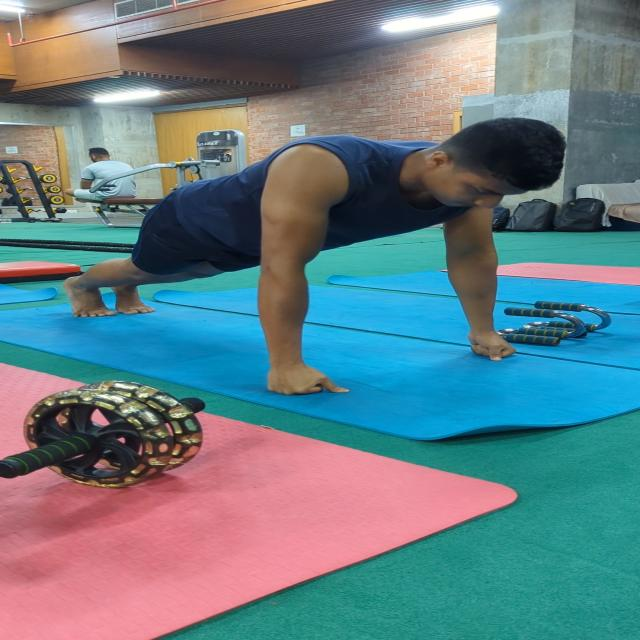Normal_PushUps: (62, 111, 563, 396)
